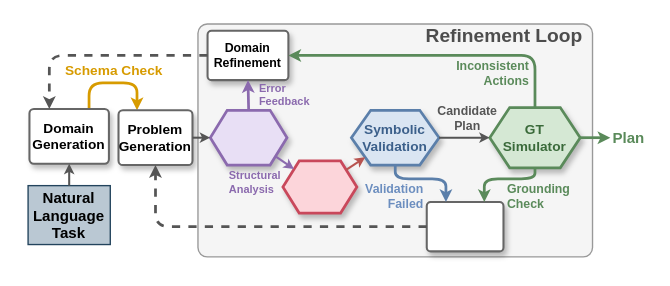
This 670x286 diagram has some shape labels left out. The centre of each missing label's shape, as x and y in pixels:
Planner: (320,188)
Problem Refinement: (466,228)
Semantic Validity: (249,139)
